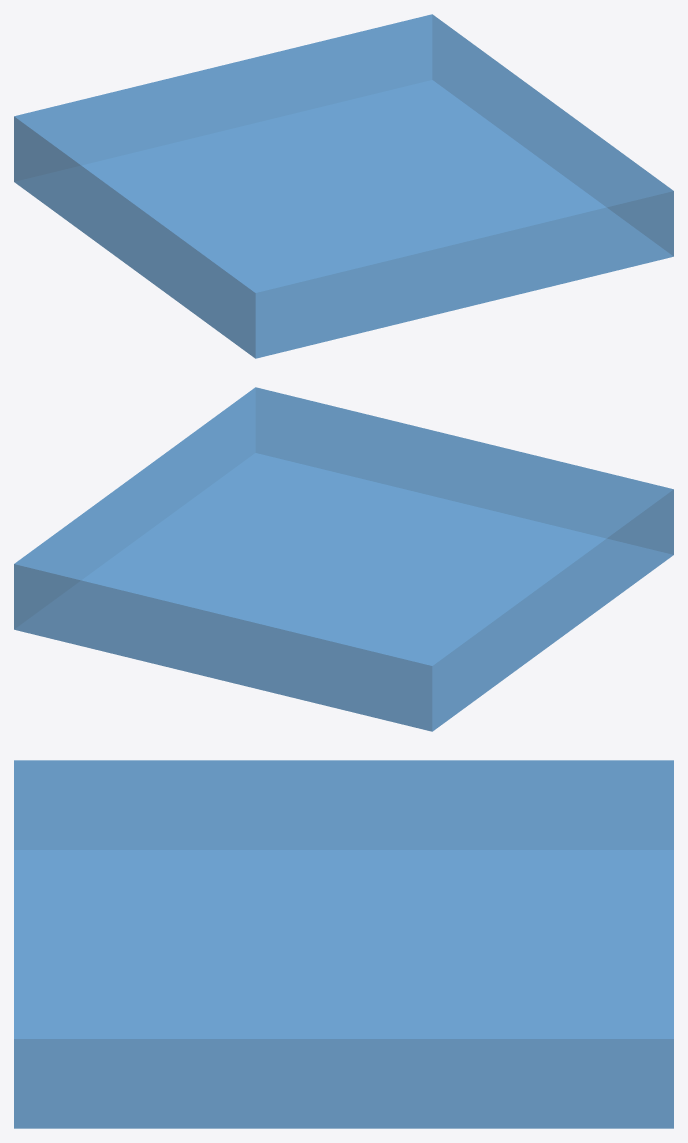
Rendered from water.glb.
The picture shows the model from 3 angles, top to bottom: view 1: azimuth 30°, elevation 25°; view 2: azimuth 150°, elevation 25°; view 3: azimuth 270°, elevation 25°; orthographic projection. The views are drawn at different scales.
Parts seen in each view (by area): view 1: water; view 2: water; view 3: water.
Boxes of the visible parts, x1=… form: water: x1=14, y1=14, x2=673, y2=358; water: x1=14, y1=387, x2=673, y2=731; water: x1=14, y1=760, x2=673, y2=1128.
Bounding box in the file's own units: 4 × 0.6 × 4.
1 material, 1 textured.
